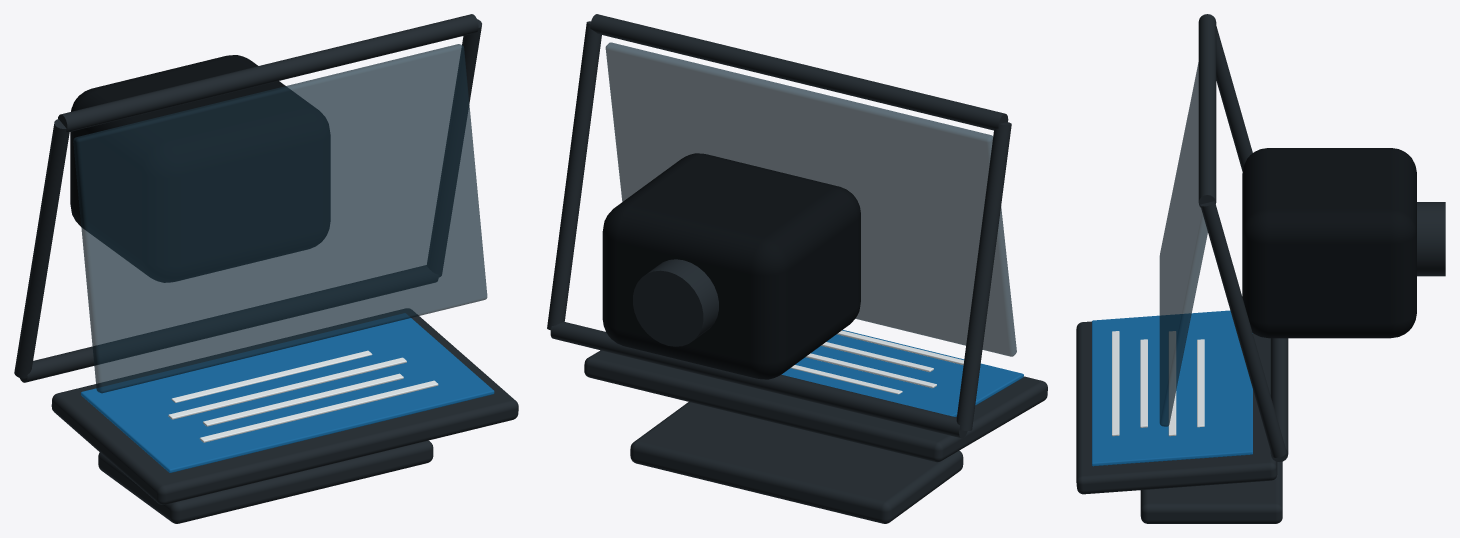
The model's file is teleprompter.glb.
3 views of the same model, side by side, from view 1: azimuth 30°, elevation 25°; view 2: azimuth 150°, elevation 25°; view 3: azimuth 270°, elevation 25° (orthographic). The views are drawn at different scales.
Parts seen in each view (by area): view 1: Beam-splitter glass, Camera blackout hood, Prompt display, Premium studio teleprompter, Prompt monitor tray, Teleprompter base, Prompt text line (×4); view 2: Beam-splitter glass, Camera blackout hood, Premium studio teleprompter, Teleprompter base, Prompt monitor tray, Prompt display, Camera lens opening, Prompt text line (×3); view 3: Camera blackout hood, Prompt display, Premium studio teleprompter, Prompt monitor tray, Beam-splitter glass, Teleprompter base, Prompt text line (×4), Camera lens opening.
Boxes of the visible parts, left/top/right/bottom form: Beam-splitter glass: left=73, top=44, right=487, bottom=393; Camera blackout hood: left=70, top=55, right=330, bottom=282; Prompt display: left=81, top=313, right=494, bottom=472; Premium studio teleprompter: left=14, top=14, right=481, bottom=382; Prompt monitor tray: left=51, top=308, right=518, bottom=504; Teleprompter base: left=98, top=440, right=433, bottom=523; Prompt text line (×4): left=168, top=350, right=438, bottom=442; Beam-splitter glass: left=605, top=42, right=1016, bottom=356; Camera blackout hood: left=602, top=153, right=860, bottom=379; Premium studio teleprompter: left=547, top=14, right=1011, bottom=438; Teleprompter base: left=630, top=402, right=963, bottom=523; Prompt monitor tray: left=584, top=350, right=1047, bottom=462; Prompt display: left=781, top=330, right=1023, bottom=416; Camera lens opening: left=633, top=259, right=718, bottom=346; Prompt text line (×3): left=805, top=330, right=963, bottom=388; Camera blackout hood: left=1242, top=148, right=1416, bottom=338; Prompt display: left=1092, top=310, right=1252, bottom=466; Premium studio teleprompter: left=1198, top=14, right=1288, bottom=461; Prompt monitor tray: left=1076, top=321, right=1277, bottom=494; Beam-splitter glass: left=1159, top=62, right=1207, bottom=426; Teleprompter base: left=1140, top=461, right=1282, bottom=523; Prompt text line (×4): left=1112, top=331, right=1204, bottom=436; Camera lens opening: left=1417, top=202, right=1445, bottom=276.
Bounding box in the file's own units: 2.03 × 1.84 × 1.69.
